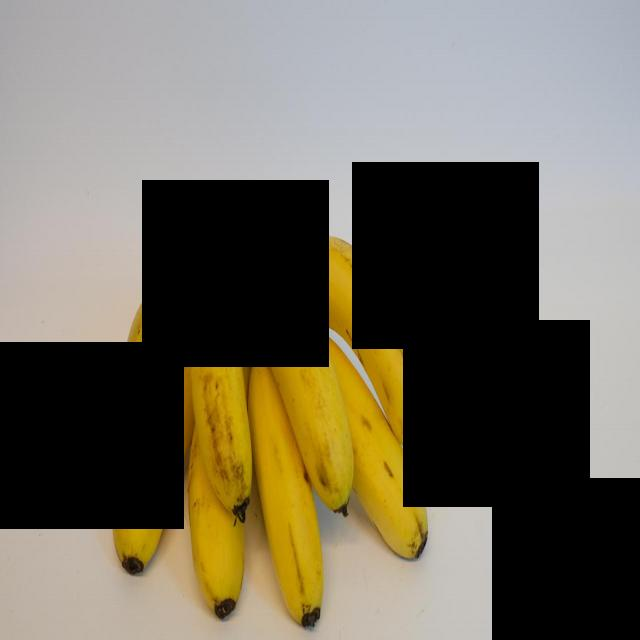banana: (302, 197, 432, 452), (314, 334, 436, 562), (254, 254, 357, 518), (248, 354, 329, 625), (188, 214, 256, 513), (116, 358, 197, 586), (116, 209, 187, 463), (194, 420, 248, 623)
